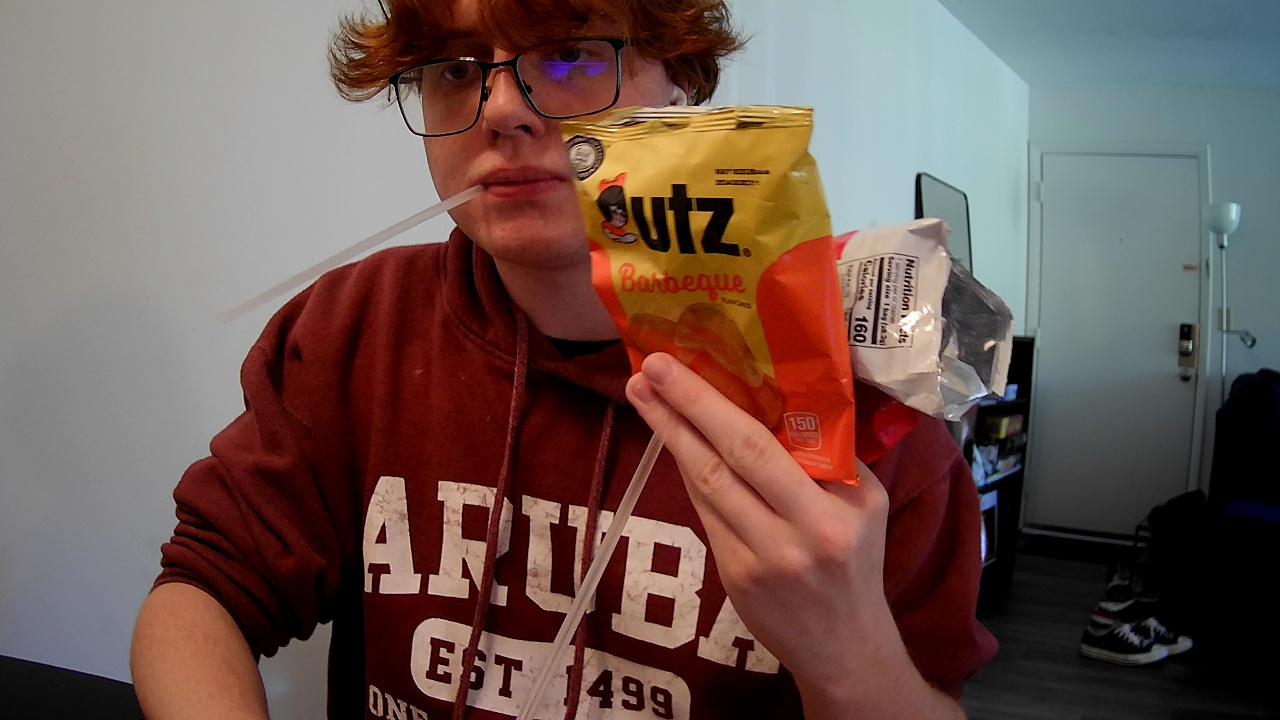trash: (192, 168, 494, 319)
